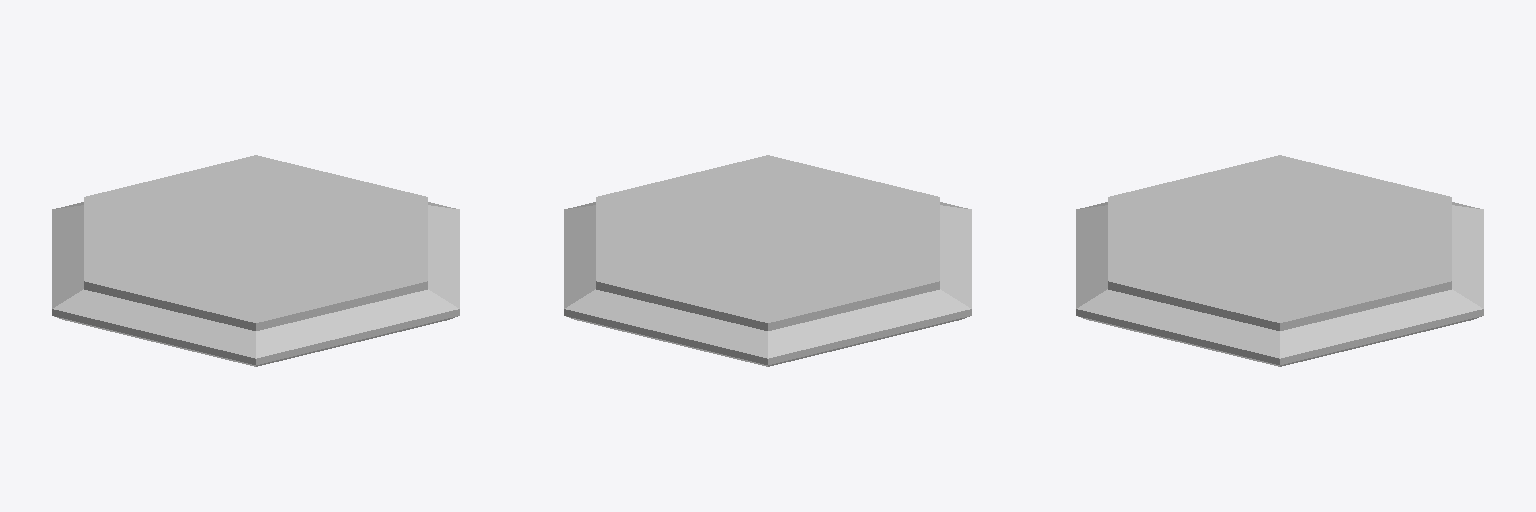
Rendered from DrumSet_Alternative.obj.
3 renders of one model, left to right at view 1: azimuth 30°, elevation 25°; view 2: azimuth 150°, elevation 25°; view 3: azimuth 270°, elevation 25°, orthographic.
Parts seen in each view (by area): view 1: SynthDrum; view 2: SynthDrum; view 3: SynthDrum.
Part boxes in pixels (bbox=[...]): SynthDrum: bbox=[52, 155, 459, 366]; SynthDrum: bbox=[564, 155, 971, 366]; SynthDrum: bbox=[1076, 155, 1483, 366].
Size of the model in its own units: 12.28 by 0.9679 by 10.63.